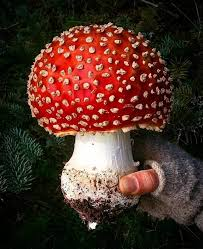Amanita muscaria: (22, 17, 175, 176)
